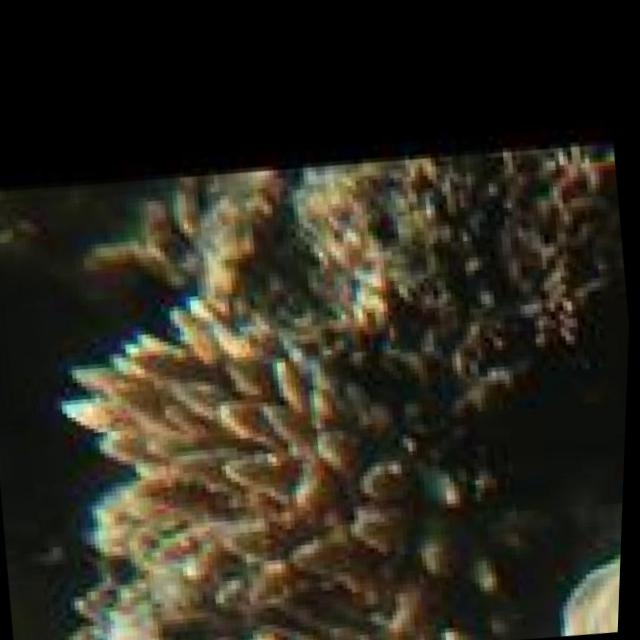Healthy Coral: (54, 303, 463, 640)
